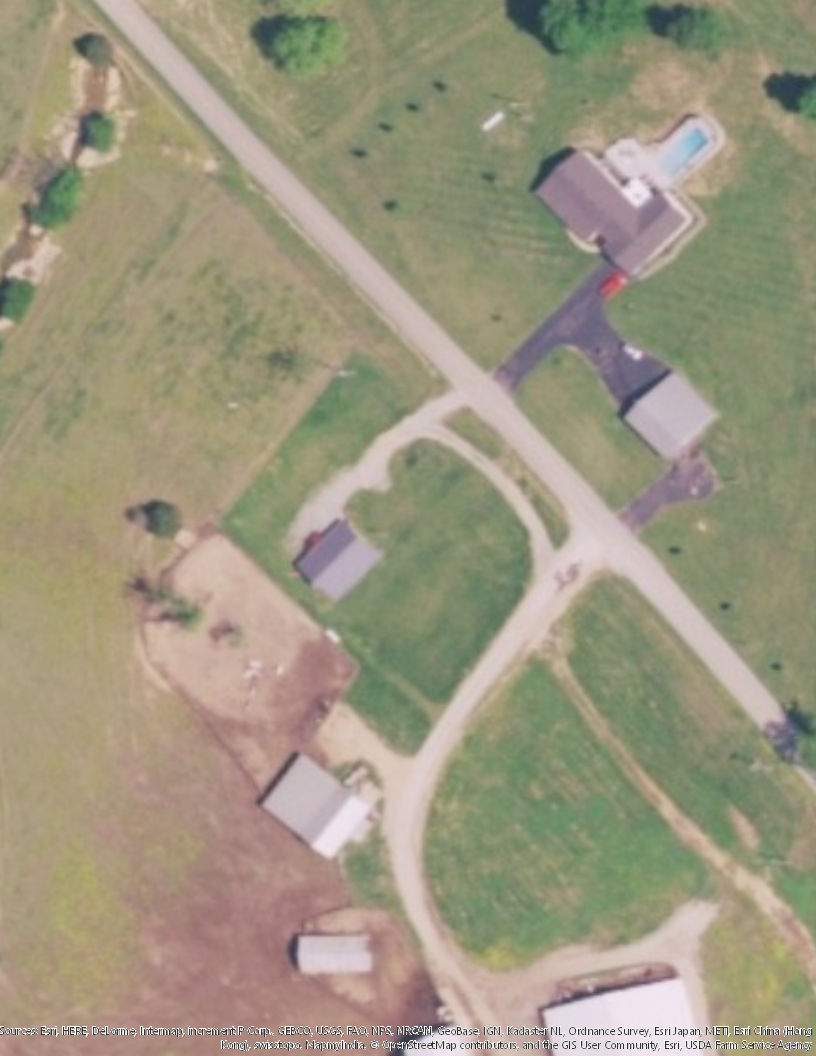cafo: (534, 962, 702, 1056)
